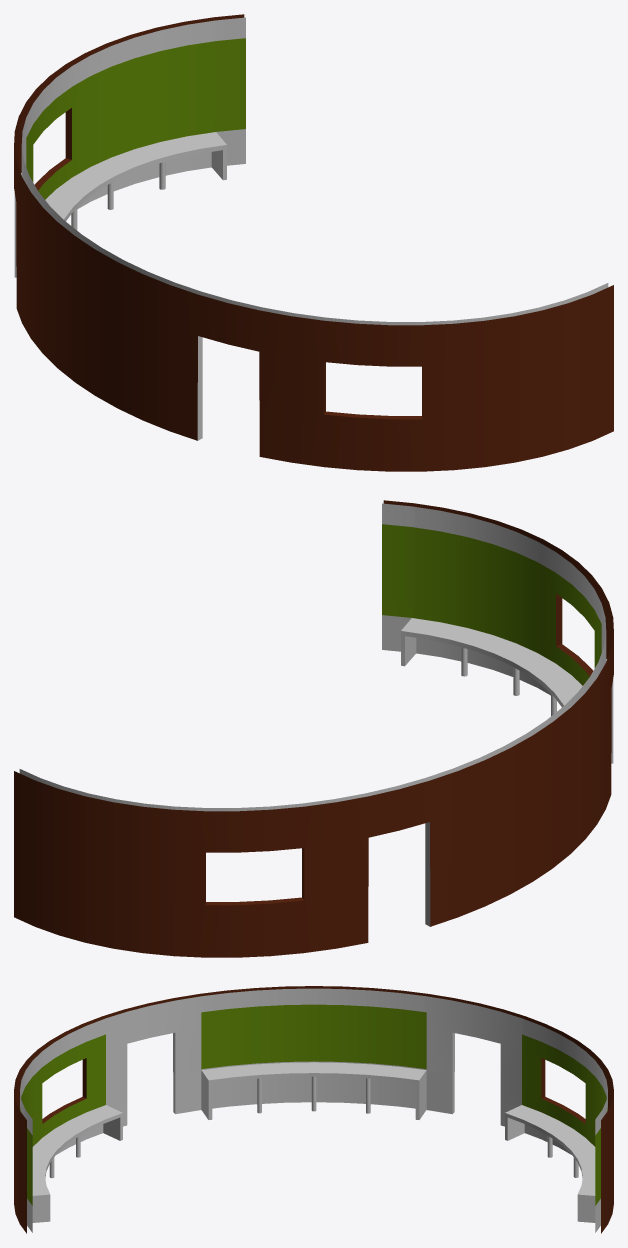
The model's file is WallEPM.obj.
3 views of the same model, one above another, from view 1: azimuth 30°, elevation 25°; view 2: azimuth 150°, elevation 25°; view 3: azimuth 270°, elevation 25° (orthographic). The views are drawn at different scales.
Parts seen in each view (by area): view 1: Circle.016_Circle.014; view 2: Circle.016_Circle.014; view 3: Circle.016_Circle.014.
Part boxes in pixels (left/top/right/bottom): Circle.016_Circle.014: left=14, top=14, right=613, bottom=471; Circle.016_Circle.014: left=14, top=500, right=613, bottom=957; Circle.016_Circle.014: left=14, top=986, right=613, bottom=1233.
Size of the model in its own units: 10.63 by 4.2 by 20.08.
